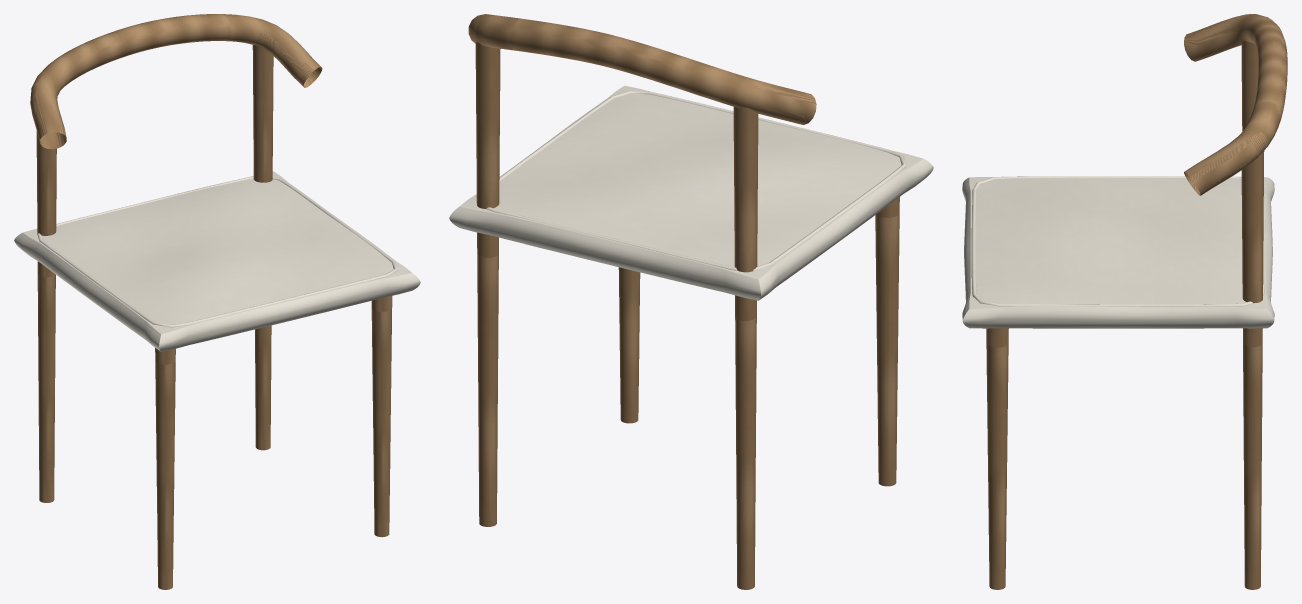
File: kowhai-hero-din-02.glb
3 renders of one model, left to right at view 1: azimuth 30°, elevation 25°; view 2: azimuth 150°, elevation 25°; view 3: azimuth 270°, elevation 25°, orthographic. The views are drawn at different scales.
Visible parts, largest first — view 1: SubPart (×6), DiningChair_SteamBentBackrest; view 2: SubPart (×6), DiningChair_SteamBentBackrest; view 3: SubPart (×5), DiningChair_SteamBentBackrest.
Boxes of the visible parts, <box> form: SubPart (×6): <box>14,45,420,589</box>; DiningChair_SteamBentBackrest: <box>30,14,322,149</box>; SubPart (×6): <box>449,42,933,589</box>; DiningChair_SteamBentBackrest: <box>468,14,816,124</box>; SubPart (×5): <box>962,40,1274,589</box>; DiningChair_SteamBentBackrest: <box>1184,14,1287,195</box>.
Size of the model in its own units: 0.521 by 0.7819 by 0.4843.
Materials: 2 (2 with a texture image).
